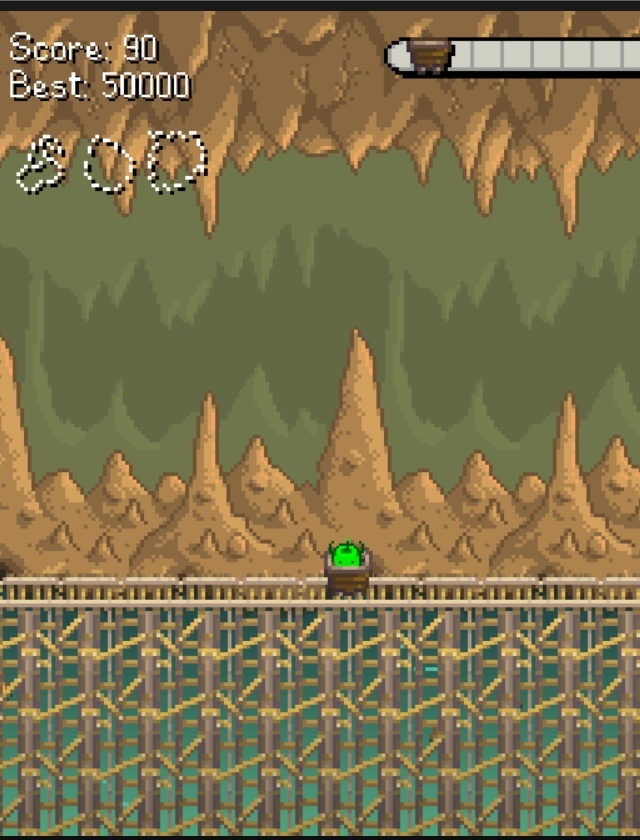minecart: (324, 540, 370, 594)
tracks: (0, 569, 316, 608), (384, 573, 640, 611)
